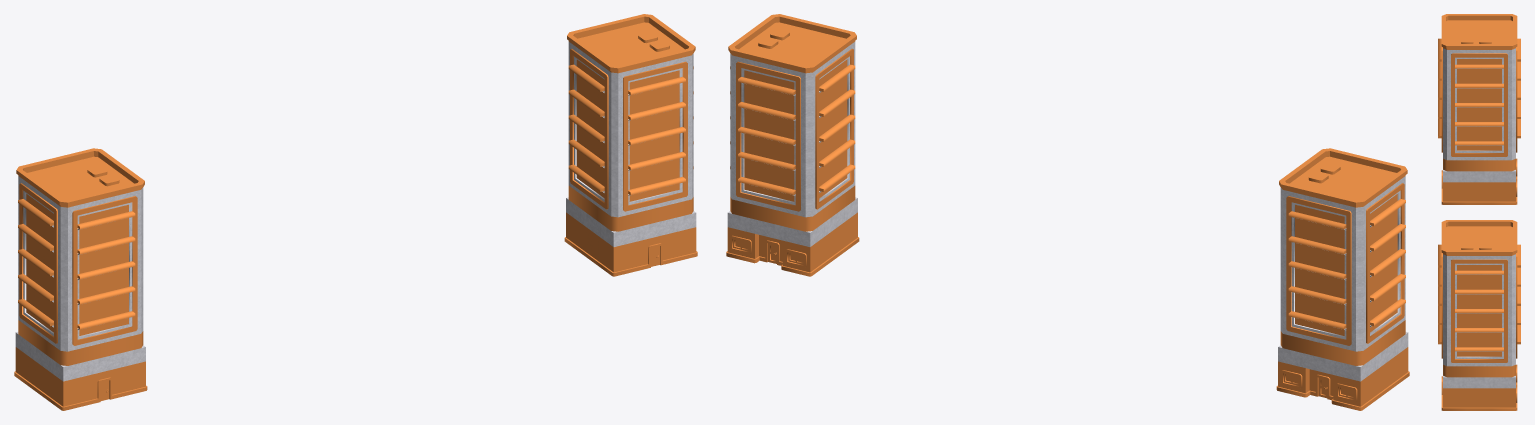
The model's file is Street-5.obj.
3 views of the same model, side by side, from view 1: azimuth 30°, elevation 25°; view 2: azimuth 150°, elevation 25°; view 3: azimuth 270°, elevation 25° (orthographic). The views are drawn at different scales.
Parts seen in each view (by area): view 1: surface6, surface5; view 2: surface6, surface5; view 3: surface6, surface5.
Part boxes in pixels (box(x1,y1,x2,y2)): surface6: box(14, 14, 697, 410); surface5: box(15, 42, 696, 381); surface6: box(726, 14, 1409, 410); surface5: box(727, 42, 1408, 381); surface6: box(1438, 14, 1520, 410); surface5: box(1443, 48, 1515, 388).
Bounding box in the file's own units: 84.24 × 25.92 × 12.24.
